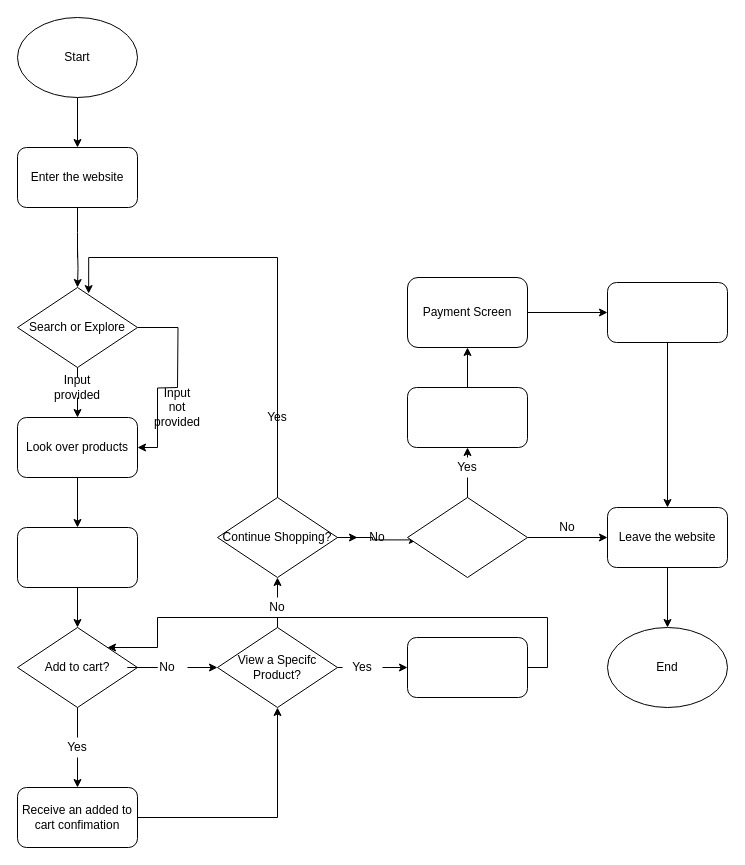
Image size: 745x865. Some labels were removed from this diagram. Here are the shapes that lost their labels. From the top down, the centre of each, then its label:
the point at 667,312: Order Confirmation with email sent
the point at 467,417: Cart Screen
the point at 77,557: Viewing specific product
the point at 467,537: Checkout?
the point at 467,667: Product's webpage open
